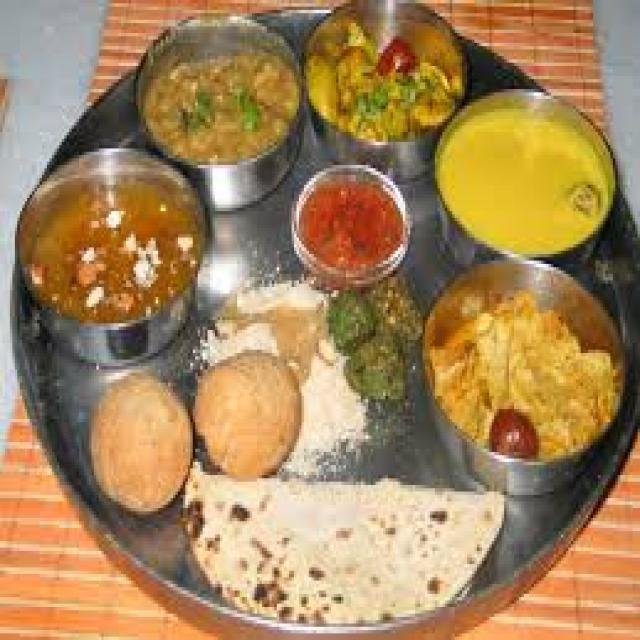dal: (439, 89, 608, 270)
pickle: (290, 165, 410, 284)
rice: (595, 12, 640, 238)
roti: (187, 459, 499, 623)
sambar-rasam: (11, 145, 214, 351)
sweet: (483, 402, 546, 472)
veg: (141, 17, 294, 188)
